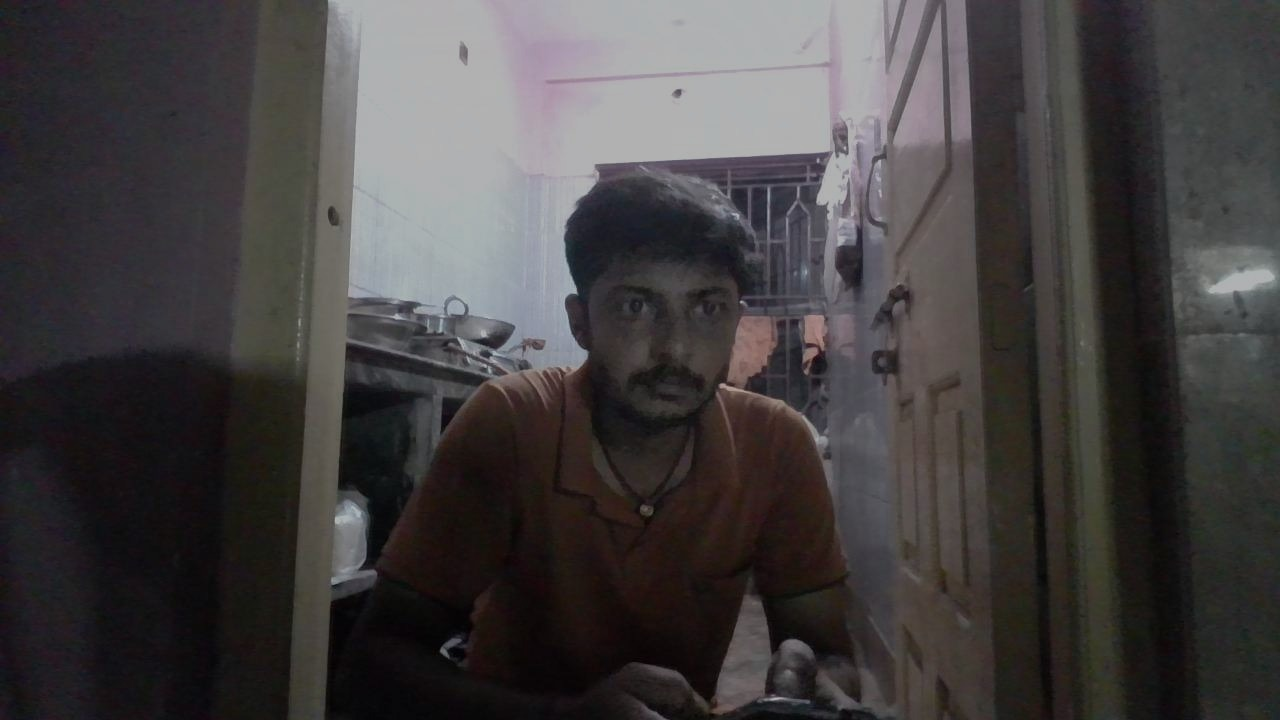red_box: (672, 406, 832, 554), (561, 432, 641, 526)
